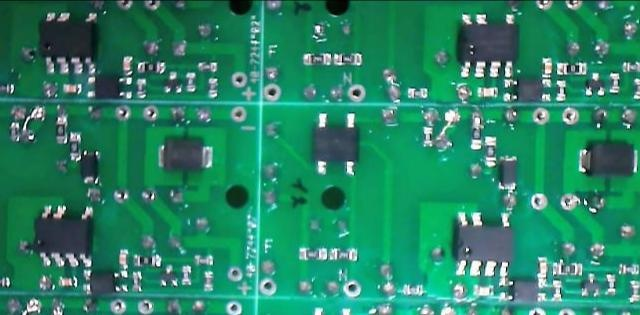chip-capacitor: (57, 275, 79, 288), (473, 284, 495, 296), (541, 57, 553, 79), (477, 86, 499, 98), (122, 54, 134, 75), (62, 82, 83, 94), (537, 256, 548, 278), (119, 248, 129, 269)
chip-resistor: (551, 260, 583, 277), (555, 60, 587, 76), (329, 246, 359, 263), (333, 51, 363, 67), (302, 51, 332, 67), (484, 134, 498, 167), (297, 246, 327, 261), (132, 253, 162, 268), (137, 59, 167, 74), (69, 130, 83, 161), (55, 115, 69, 145), (470, 121, 482, 151), (605, 273, 618, 297), (608, 70, 620, 95), (617, 262, 640, 275), (550, 279, 563, 302), (401, 284, 424, 297), (130, 270, 143, 293), (206, 76, 219, 99), (556, 79, 568, 103), (407, 86, 429, 99), (628, 280, 640, 303), (422, 125, 434, 148), (136, 76, 148, 99), (180, 264, 192, 286), (9, 120, 21, 142), (197, 61, 219, 73), (193, 254, 214, 266), (185, 71, 197, 92), (621, 60, 640, 73), (203, 270, 214, 291), (632, 77, 640, 100)
diode: (577, 140, 639, 178), (158, 137, 214, 172), (498, 153, 518, 191), (81, 149, 100, 186)
ic: (455, 12, 521, 81), (39, 9, 100, 76), (453, 210, 513, 278), (34, 203, 94, 269), (311, 111, 361, 177), (502, 77, 552, 103), (82, 267, 130, 294), (497, 279, 547, 302), (86, 76, 134, 99)
transistor: (585, 71, 607, 98), (581, 272, 602, 298), (159, 262, 180, 288), (164, 70, 184, 94)
